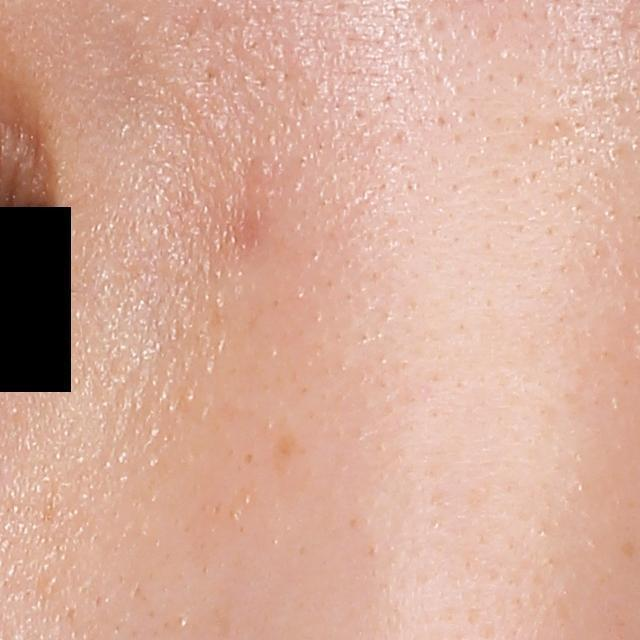melasma: (266, 433, 301, 475)
